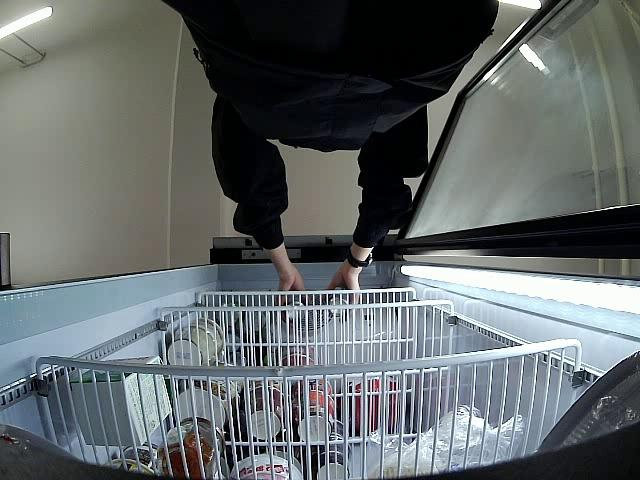00_hand: (325, 267, 360, 306), (278, 266, 305, 302)
15_letsbe: (326, 287, 352, 319), (283, 297, 306, 326)
